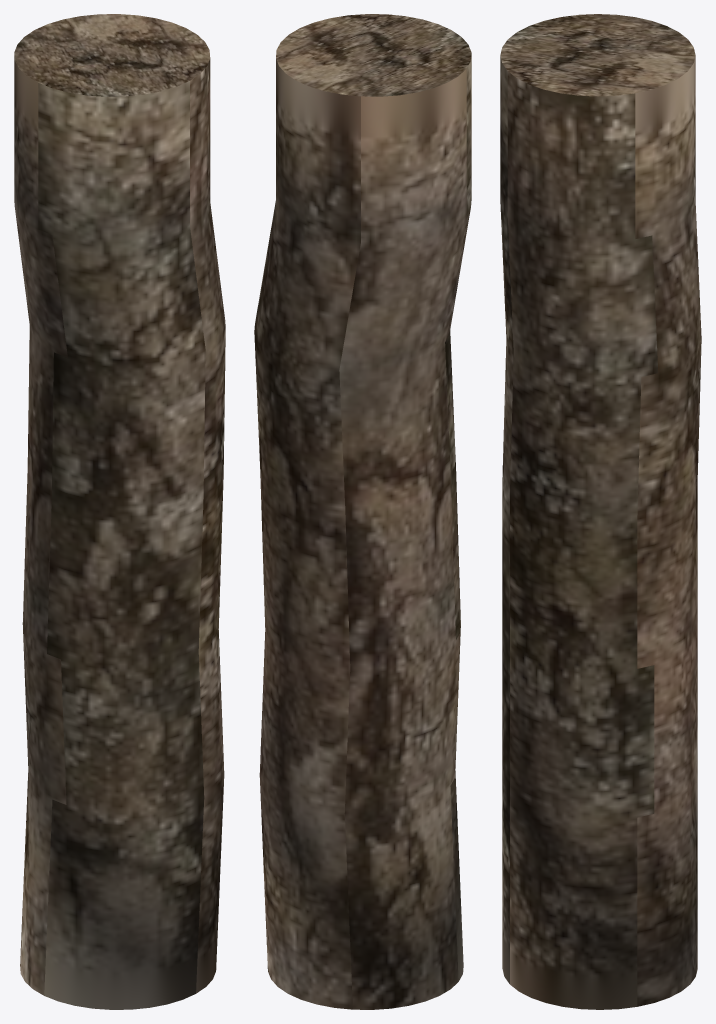
The model's file is wood.fbx.
The picture shows the model from 3 angles, left to right: view 1: azimuth 30°, elevation 25°; view 2: azimuth 150°, elevation 25°; view 3: azimuth 270°, elevation 25°; orthographic projection.
Visible parts, largest first — view 1: Cylinder.004; view 2: Cylinder.004; view 3: Cylinder.004.
Boxes of the visible parts, x1,y1,x2,y2 form: Cylinder.004: (14,14,225,1009); Cylinder.004: (254,14,471,1009); Cylinder.004: (500,14,701,1009).
Size of the model in its own units: 222 by 1029 by 206.
